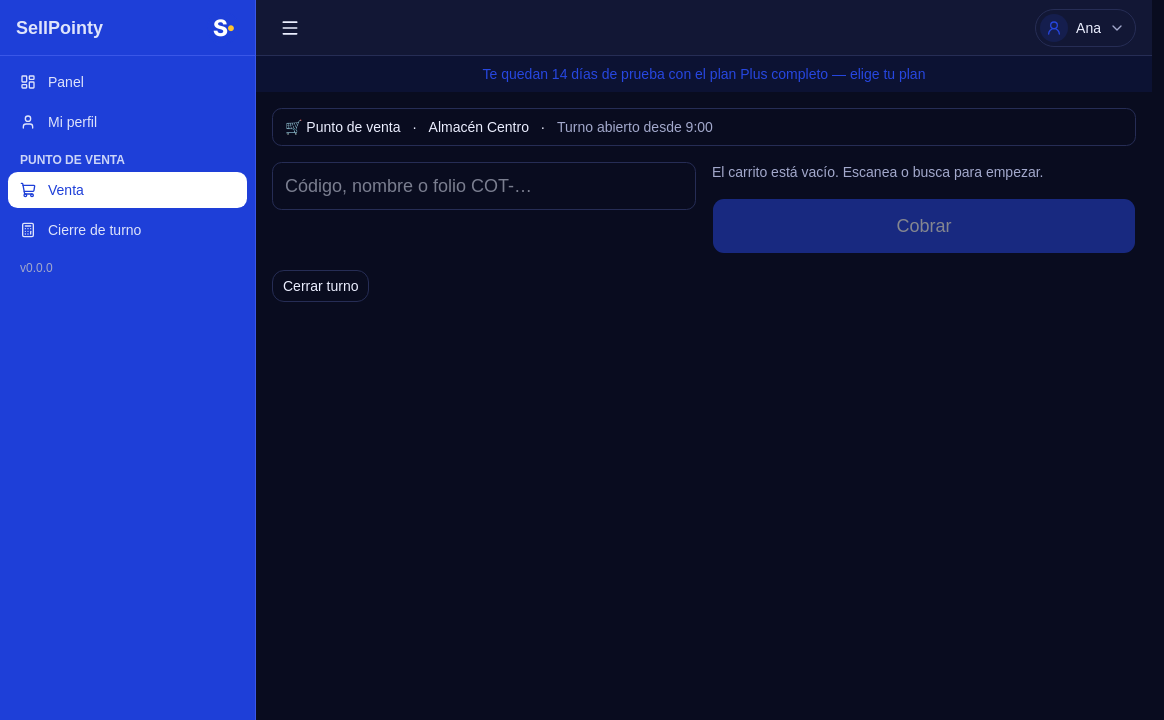
El carrito del POS (F4-CART) › buscar › sin resultados lo dice, en vez de dejar la pantalla muda
Type "nada" into the field named "Buscar" at (484, 186), box [272,162,696,210]
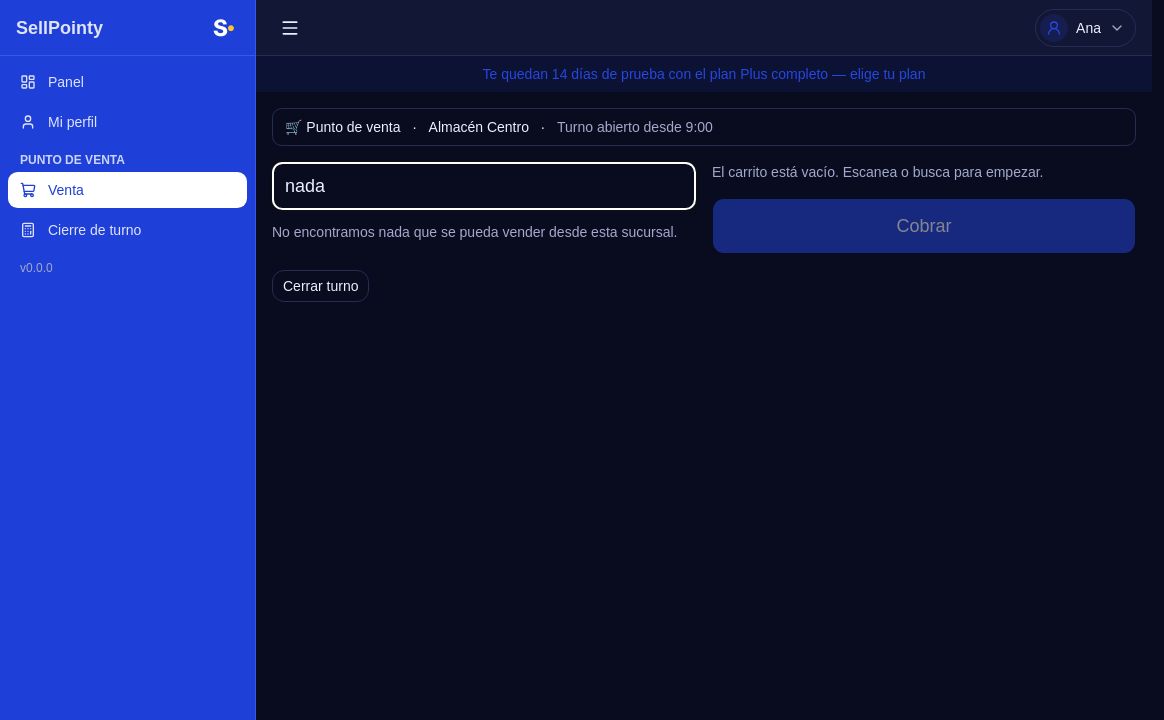
Now the text "No encontramos nada que se pueda vender desde esta sucursal." is shown, box [272,222,696,242]
